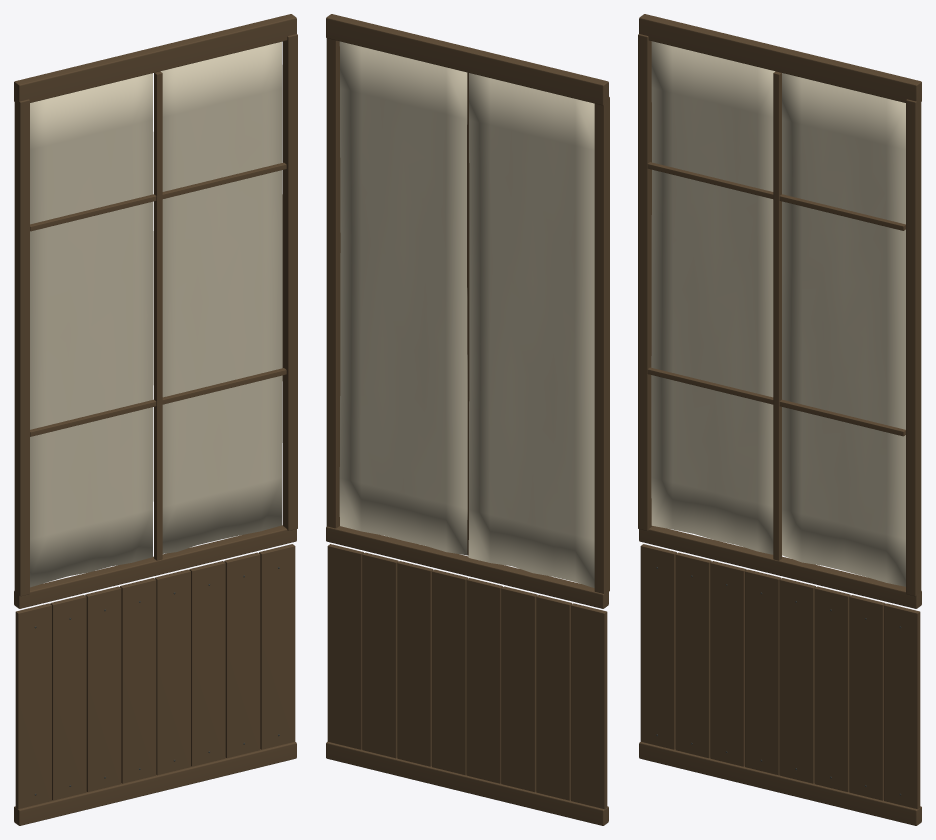
The model's file is wall-0-lod0.fbx.
3 views of the same model, side by side, from view 1: azimuth 30°, elevation 25°; view 2: azimuth 150°, elevation 25°; view 3: azimuth 330°, elevation 25° (orthographic).
Visible parts, largest first — view 1: Slack fibre infill, Slack fibre infill.001, Profiled upright, Profiled upright.001, Tongue-and-groove lower board, Profiled horizontal rail.002, Tongue-and-groove lower board.002, Tongue-and-groove lower board.003, Tongue-and-groove lower board.006, Tongue-and-groove lower board.007, Tongue-and-groove lower board.004, Tongue-and-groove lower board.001 (+8 smaller); view 2: Slack fibre infill.001, Slack fibre infill, Profiled upright, Profiled horizontal rail.002, Tongue-and-groove lower board, Tongue-and-groove lower board.002, Tongue-and-groove lower board.003, Tongue-and-groove lower board.006, Tongue-and-groove lower board.007, Profiled upright.001, Tongue-and-groove lower board.004, Tongue-and-groove lower board.005 (+4 smaller); view 3: Slack fibre infill.001, Slack fibre infill, Profiled upright.001, Tongue-and-groove lower board.007, Profiled horizontal rail.002, Tongue-and-groove lower board.004, Tongue-and-groove lower board.005, Tongue-and-groove lower board, Tongue-and-groove lower board.001, Tongue-and-groove lower board.003, Tongue-and-groove lower board.002, Tongue-and-groove lower board.006 (+8 smaller).
Part boxes in pixels (x1=…): Slack fibre infill: x1=30, y1=73, x2=153, y2=587; Slack fibre infill.001: x1=160, y1=41, x2=282, y2=553; Profiled upright: x1=14, y1=99, x2=29, y2=596; Profiled upright.001: x1=282, y1=34, x2=297, y2=530; Tongue-and-groove lower board: x1=15, y1=603, x2=51, y2=809; Profiled horizontal rail.002: x1=14, y1=14, x2=296, y2=103; Tongue-and-groove lower board.002: x1=85, y1=586, x2=121, y2=791; Tongue-and-groove lower board.003: x1=120, y1=578, x2=156, y2=783; Tongue-and-groove lower board.006: x1=224, y1=552, x2=260, y2=758; Tongue-and-groove lower board.007: x1=259, y1=544, x2=295, y2=749; Tongue-and-groove lower board.004: x1=154, y1=569, x2=190, y2=775; Tongue-and-groove lower board.001: x1=50, y1=595, x2=86, y2=800; Slack fibre infill.001: x1=339, y1=41, x2=467, y2=555; Slack fibre infill: x1=468, y1=73, x2=594, y2=587; Profiled upright: x1=594, y1=97, x2=609, y2=594; Profiled horizontal rail.002: x1=326, y1=14, x2=608, y2=105; Tongue-and-groove lower board: x1=571, y1=603, x2=607, y2=809; Tongue-and-groove lower board.002: x1=501, y1=586, x2=537, y2=792; Tongue-and-groove lower board.003: x1=466, y1=578, x2=502, y2=783; Tongue-and-groove lower board.006: x1=362, y1=552, x2=398, y2=758; Tongue-and-groove lower board.007: x1=327, y1=544, x2=363, y2=749; Profiled upright.001: x1=326, y1=38, x2=340, y2=528; Tongue-and-groove lower board.004: x1=432, y1=569, x2=468, y2=775; Tongue-and-groove lower board.005: x1=397, y1=561, x2=433, y2=766; Slack fibre infill.001: x1=782, y1=73, x2=905, y2=586; Slack fibre infill: x1=651, y1=41, x2=775, y2=554; Profiled upright.001: x1=906, y1=99, x2=921, y2=596; Tongue-and-groove lower board.007: x1=884, y1=603, x2=920, y2=809; Profiled horizontal rail.002: x1=639, y1=14, x2=921, y2=104; Tongue-and-groove lower board.004: x1=779, y1=578, x2=815, y2=783; Tongue-and-groove lower board.005: x1=814, y1=586, x2=850, y2=791; Tongue-and-groove lower board: x1=640, y1=544, x2=676, y2=749; Tongue-and-groove lower board.001: x1=675, y1=552, x2=711, y2=758; Tongue-and-groove lower board.003: x1=745, y1=569, x2=781, y2=775; Tongue-and-groove lower board.002: x1=710, y1=561, x2=746, y2=766; Tongue-and-groove lower board.006: x1=849, y1=595, x2=885, y2=800.
Size of the model in its own units: 100 by 255 by 4.55.
